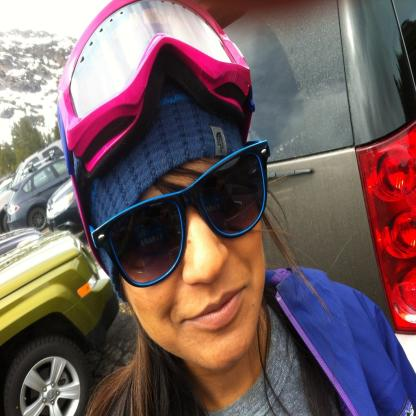Helmet: (48, 0, 256, 251)
